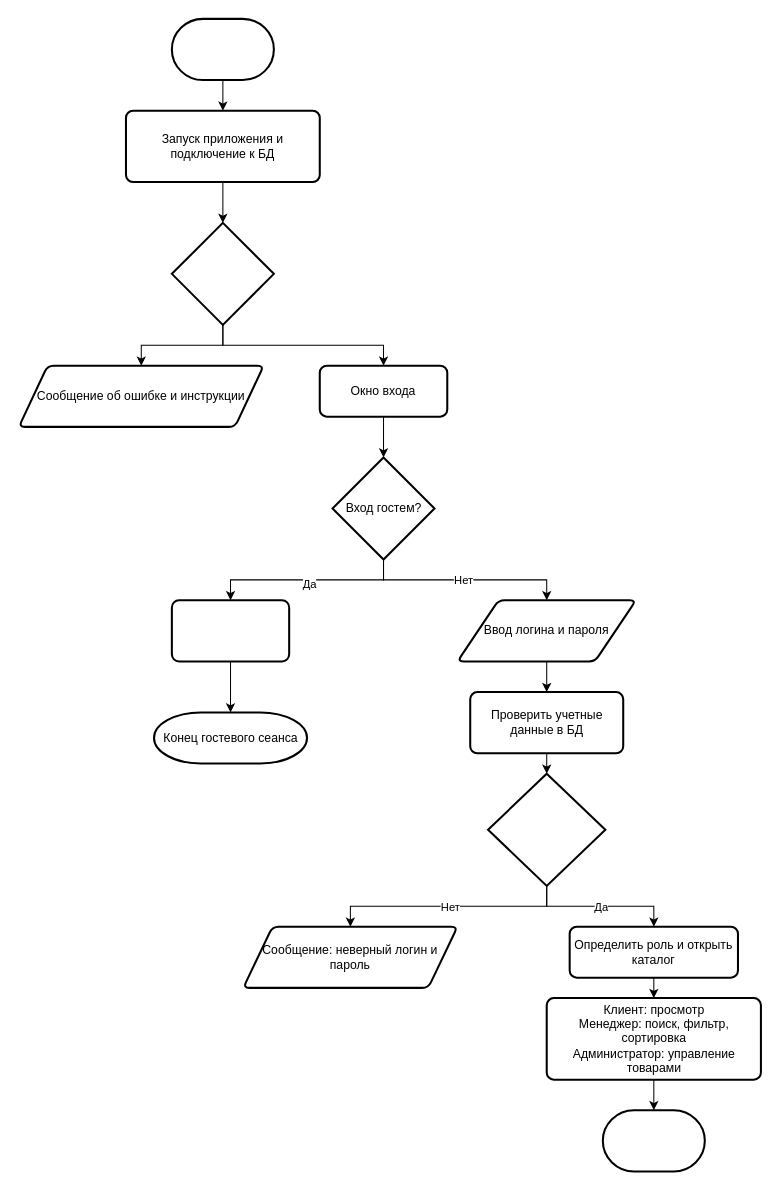
Image size: 779x1189. Some labels were removed from this diagram. The centre of each missing label's shape, as x and y in pixels:
"Выход > окно входа" goes at point (653, 1140).
"Данные верны?" goes at point (546, 829).
"Каталог: только просмотр" goes at point (230, 630).
"Начало" goes at point (222, 49).
"Подключение доступно?" goes at point (222, 273).
